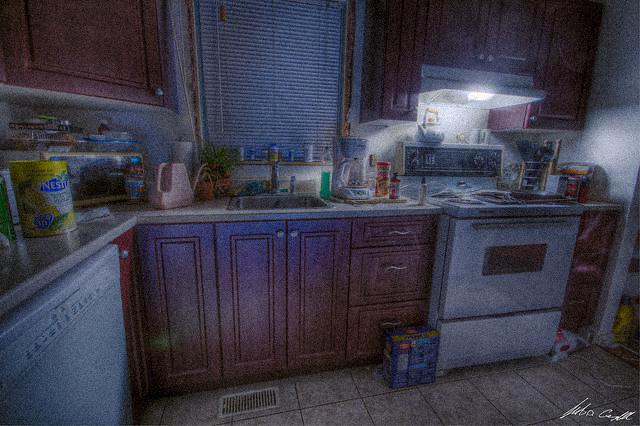Lavaplatos: (226, 157, 328, 217)
